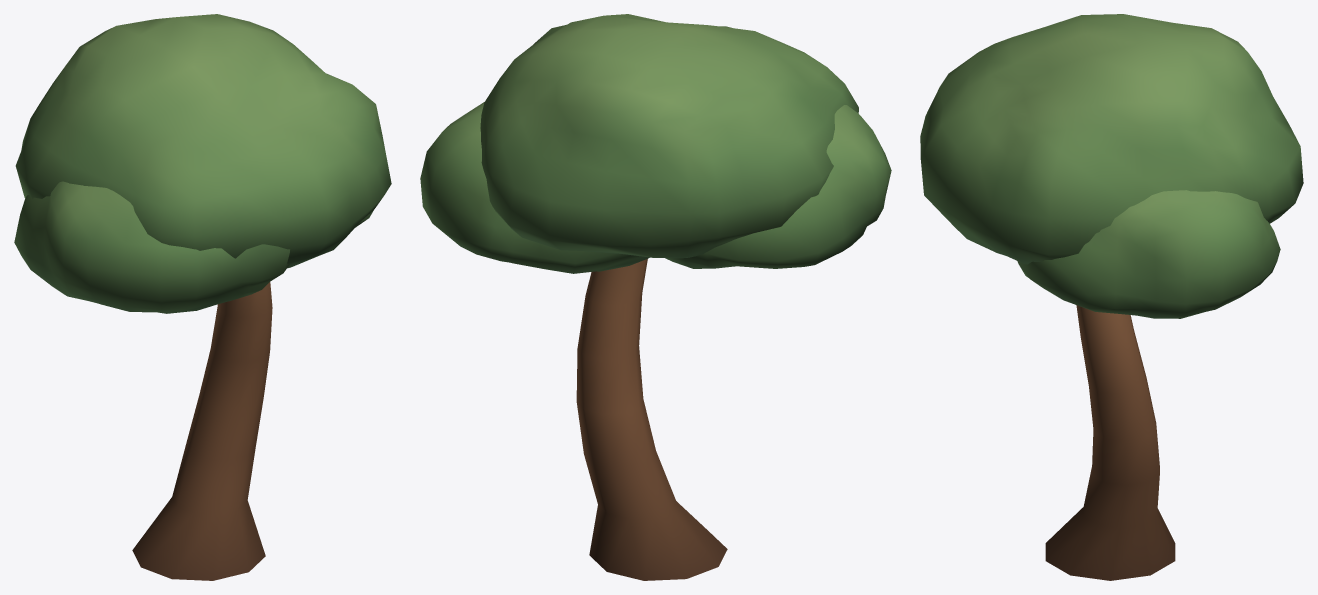
Rendered from Kit_Nature_OakLight_01.glb.
3 views of the same model, side by side, from view 1: azimuth 30°, elevation 25°; view 2: azimuth 150°, elevation 25°; view 3: azimuth 270°, elevation 25° (orthographic). The views are drawn at different scales.
Parts seen in each view (by area): view 1: EX_OakLight_Leaves, EX_OakLight_Bark; view 2: EX_OakLight_Leaves, EX_OakLight_Bark; view 3: EX_OakLight_Leaves, EX_OakLight_Bark.
Part boxes in pixels (left/top/right/bottom): EX_OakLight_Leaves: left=14, top=14, right=391, bottom=313; EX_OakLight_Bark: left=132, top=282, right=272, bottom=580; EX_OakLight_Leaves: left=420, top=14, right=891, bottom=273; EX_OakLight_Bark: left=576, top=258, right=727, bottom=580; EX_OakLight_Leaves: left=920, top=14, right=1303, bottom=318; EX_OakLight_Bark: left=1045, top=305, right=1175, bottom=580.
Size of what is drawn, in the model's own units: 3.51 by 4.7 by 3.15.
